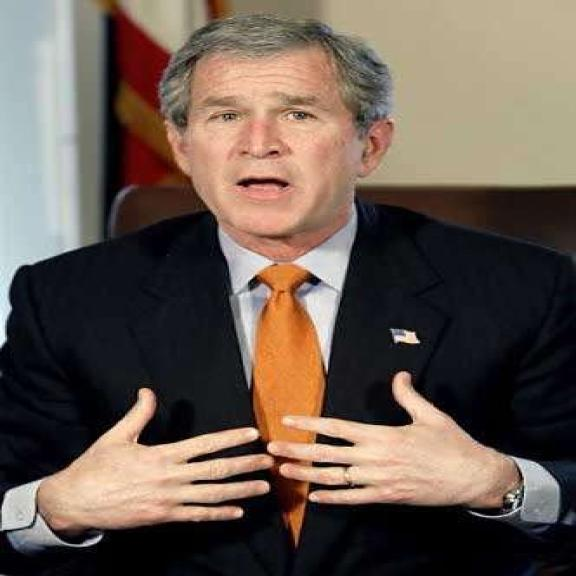face: (165, 54, 398, 236)
